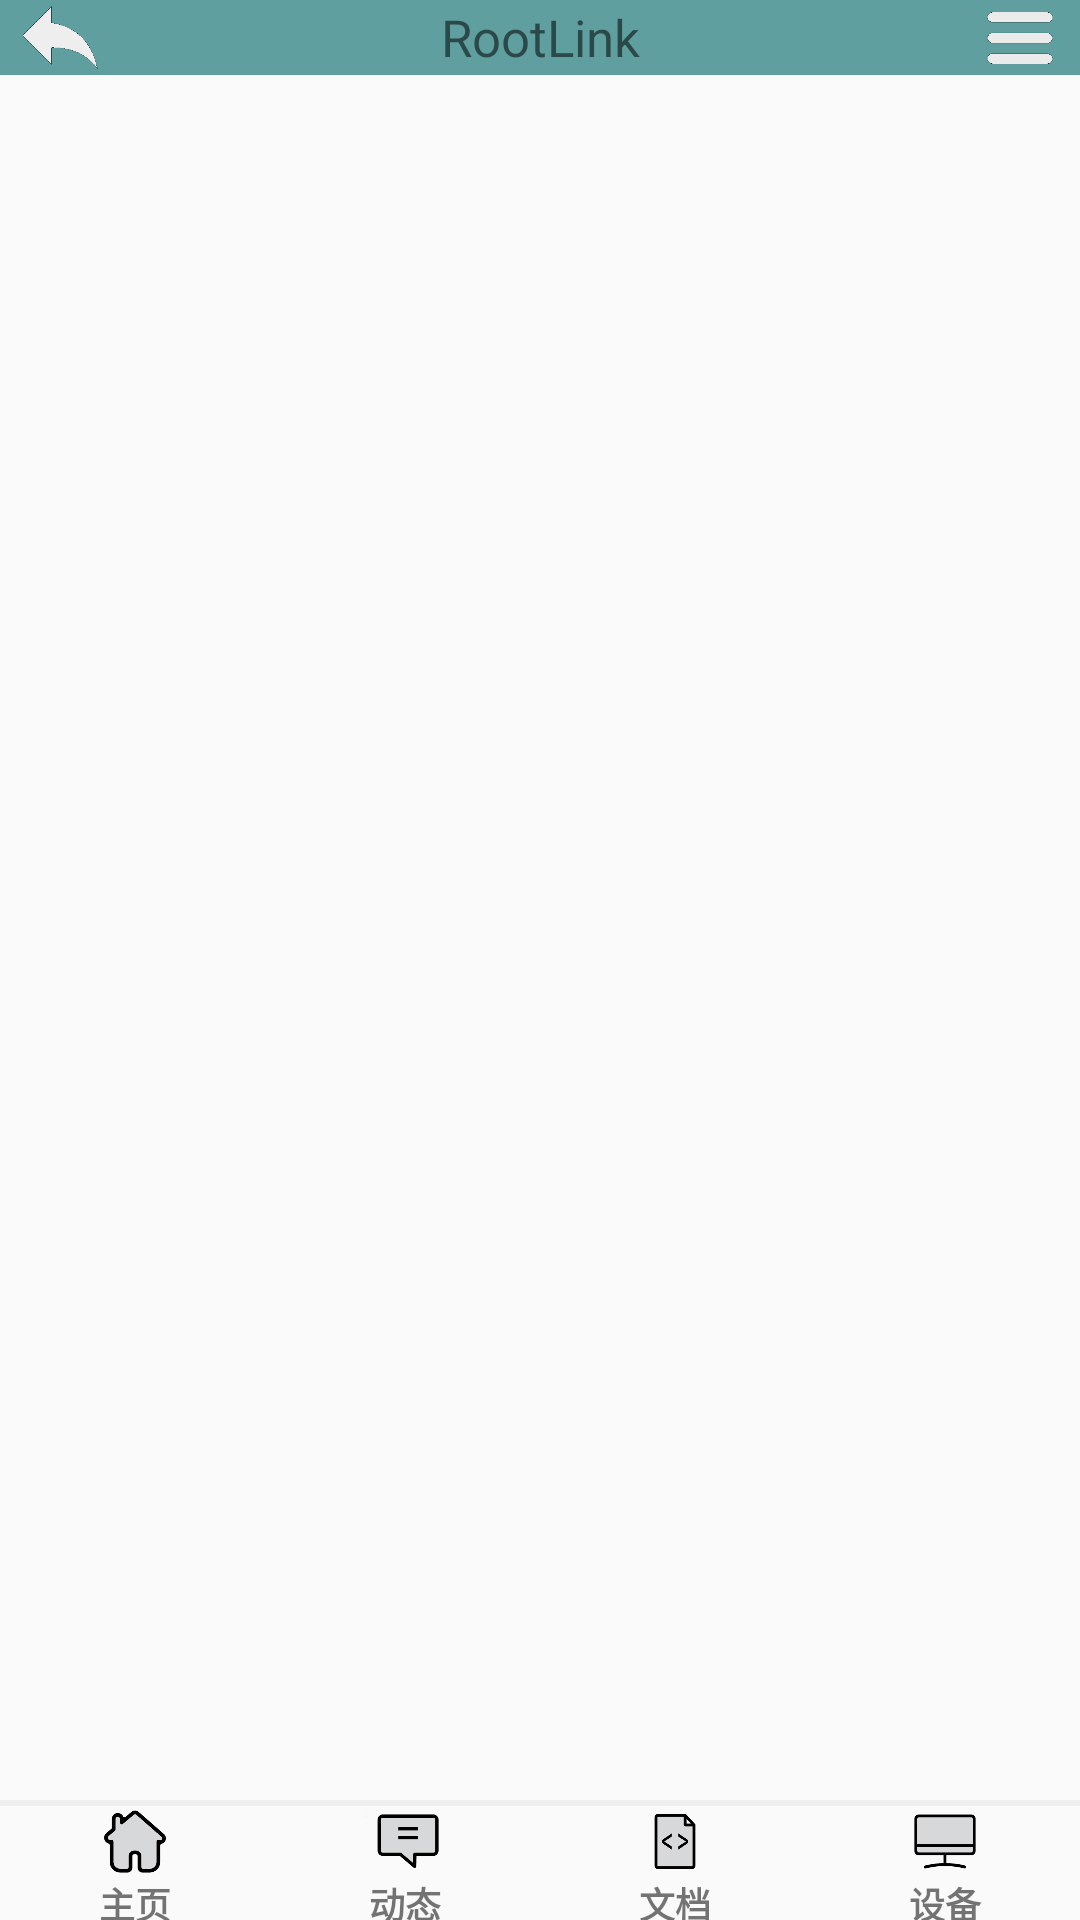

Named icons in this screenshot (1080px x 1920px) and their centers, (x=x, y=y):
back: (x=60, y=37)
menu: (x=1020, y=38)
message: (x=408, y=1841)
